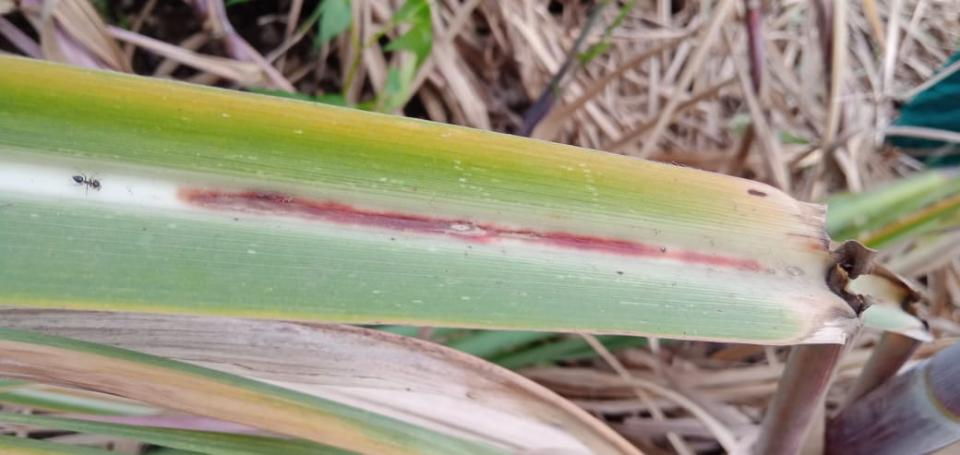RedRot: (175, 182, 769, 277)
Yellow: (0, 53, 786, 217), (0, 295, 495, 329)
